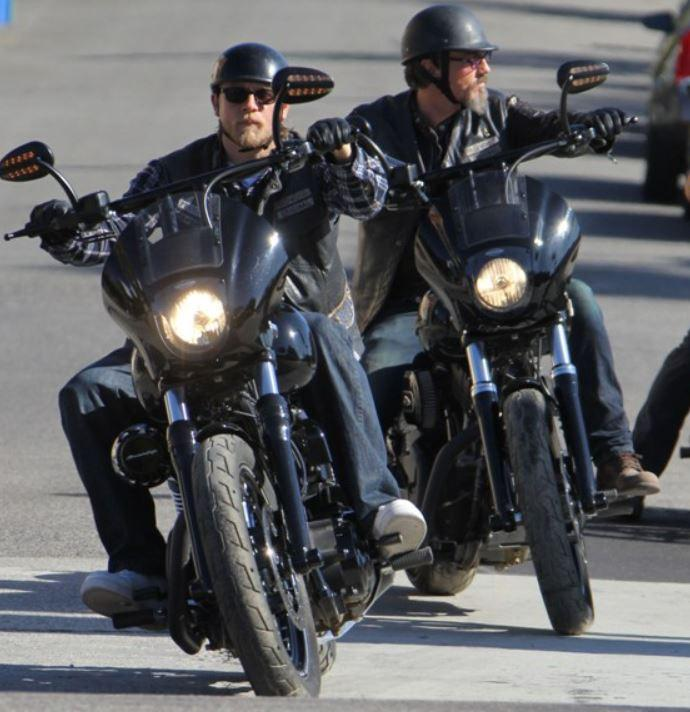helmet: (401, 5, 500, 104), (210, 43, 289, 147)
